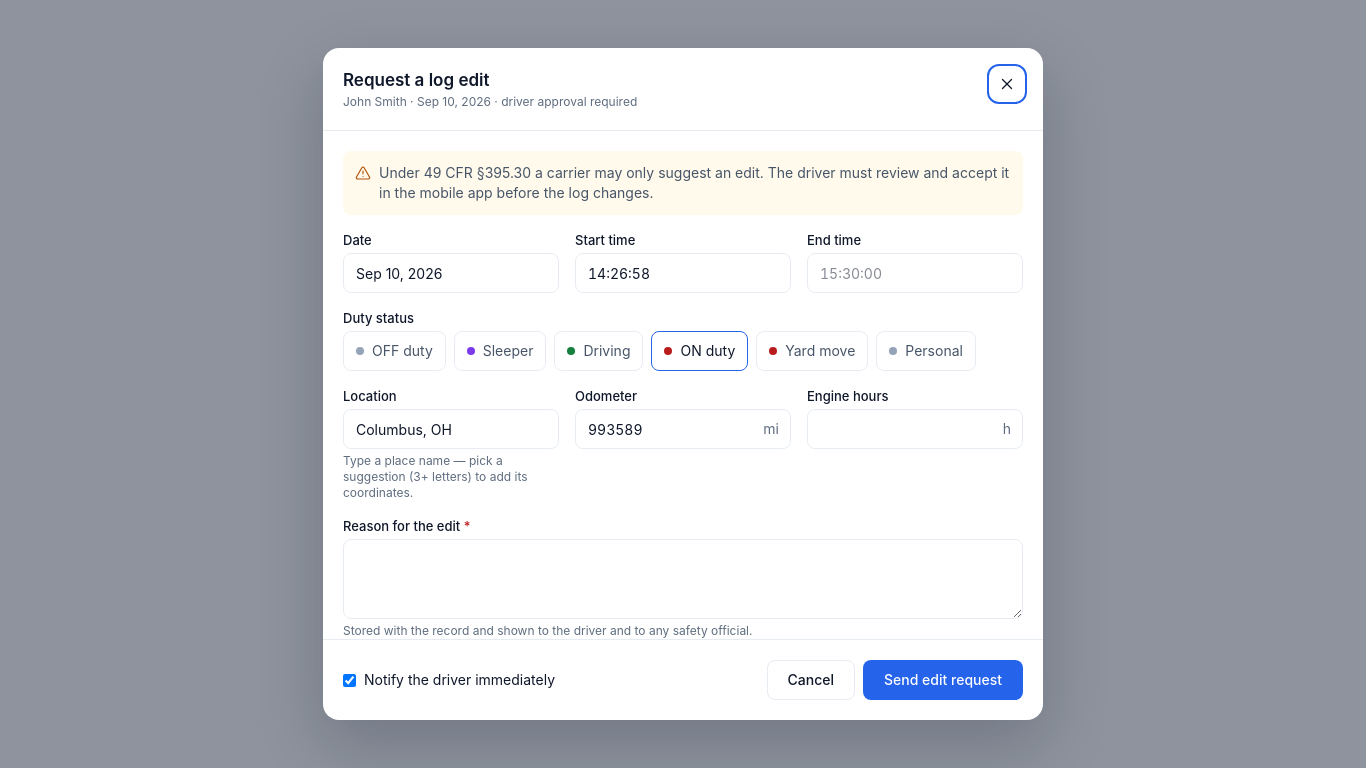
Test: 11.11 refusals are never silent › a 422 issue goes under its input; one with no input of its own is spelled out in the banner
Type "Wrong status." into the text box labelled "Reason for the edit *". click: (683, 579)
box: [343,539,1023,619]
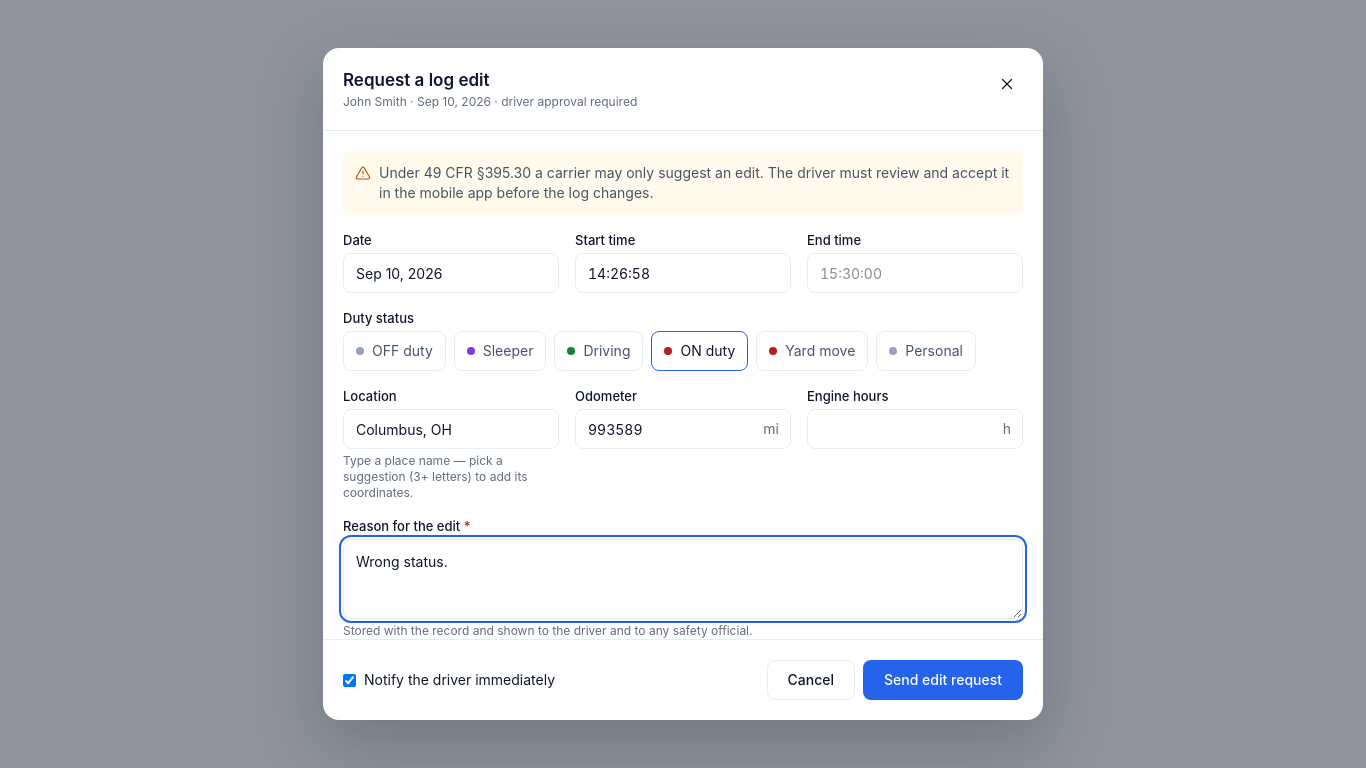
Click the button "Send edit request". click: click(943, 680)
box: [863,660,1023,700]
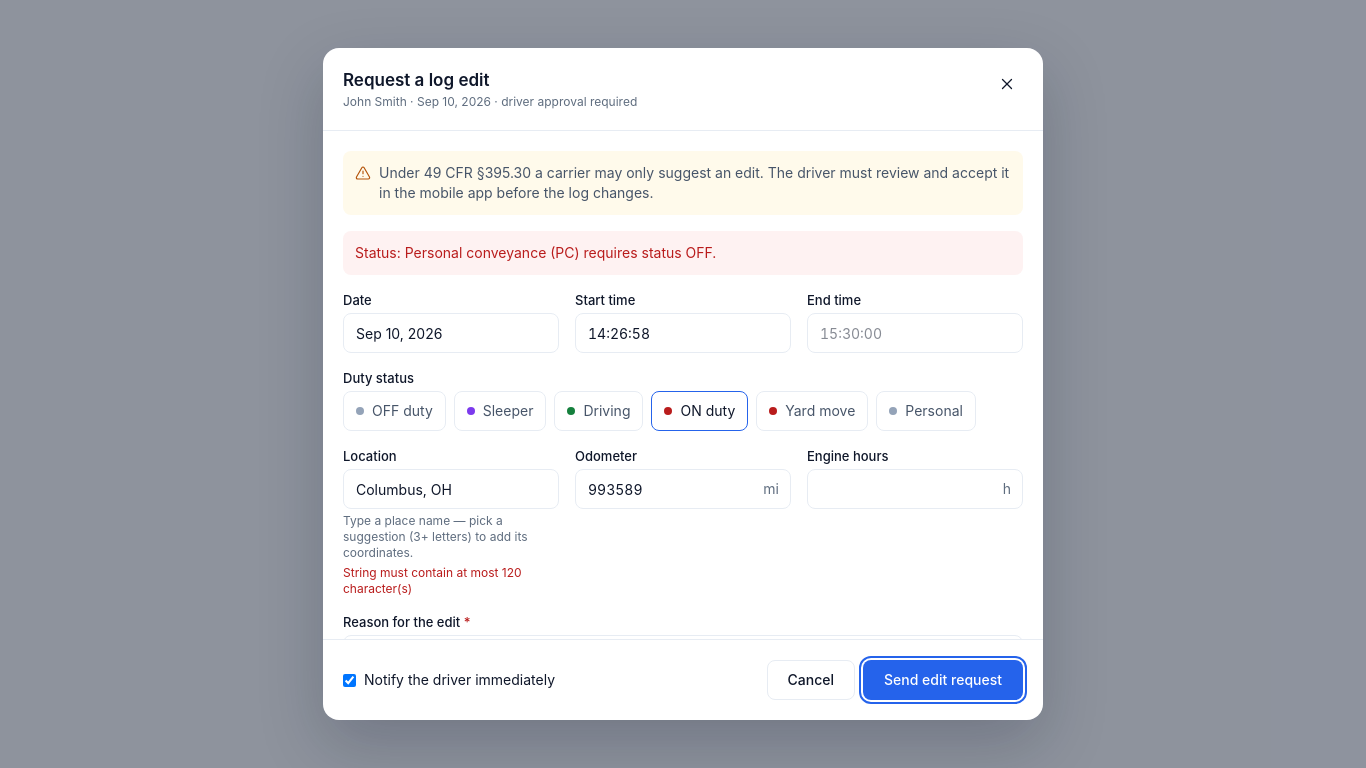
expect the text "String must contain at most 120 character(s)" is shown: met, box [343,565,522,596]
expect the message reads "Status: Personal conveyance (PC) requires status OFF.": met, box [355,244,716,261]
